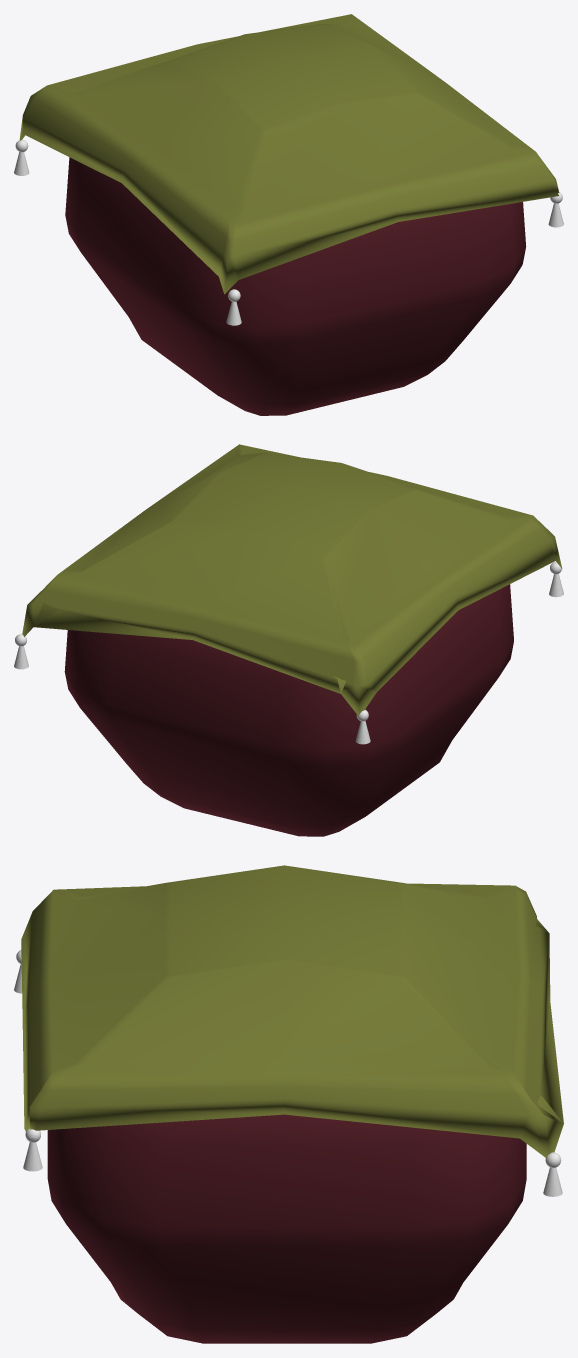
Rendered from little_couch.fbx.
3 views of the same model, one above another, from view 1: azimuth 30°, elevation 25°; view 2: azimuth 150°, elevation 25°; view 3: azimuth 270°, elevation 25° (orthographic). The views are drawn at different scales.
Parts seen in each view (by area): view 1: cube_chair_top.001, cube_chair_bottom.001; view 2: cube_chair_top.001, cube_chair_bottom.001; view 3: cube_chair_top.001, cube_chair_bottom.001, sash.005, sash.006.
Boxes of the visible parts, left/top/right/bottom form: cube_chair_top.001: left=19, top=14, right=559, bottom=294; cube_chair_bottom.001: left=65, top=157, right=526, bottom=415; cube_chair_top.001: left=22, top=444, right=562, bottom=716; cube_chair_bottom.001: left=64, top=584, right=513, bottom=836; cube_chair_top.001: left=21, top=865, right=563, bottom=1158; cube_chair_bottom.001: left=47, top=1114, right=526, bottom=1343; sash.005: left=543, top=1152, right=562, bottom=1196; sash.006: left=23, top=1128, right=42, bottom=1171.
Bounding box in the file's own units: 1107 × 938 × 1192.
